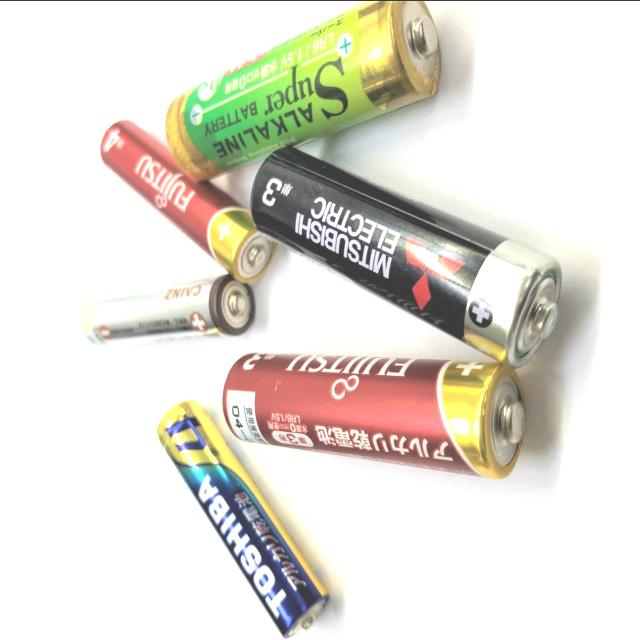AA: (248, 139, 567, 370), (161, 1, 445, 185), (219, 346, 532, 483)
AAA: (152, 391, 333, 640), (97, 114, 278, 280), (77, 269, 259, 349)
